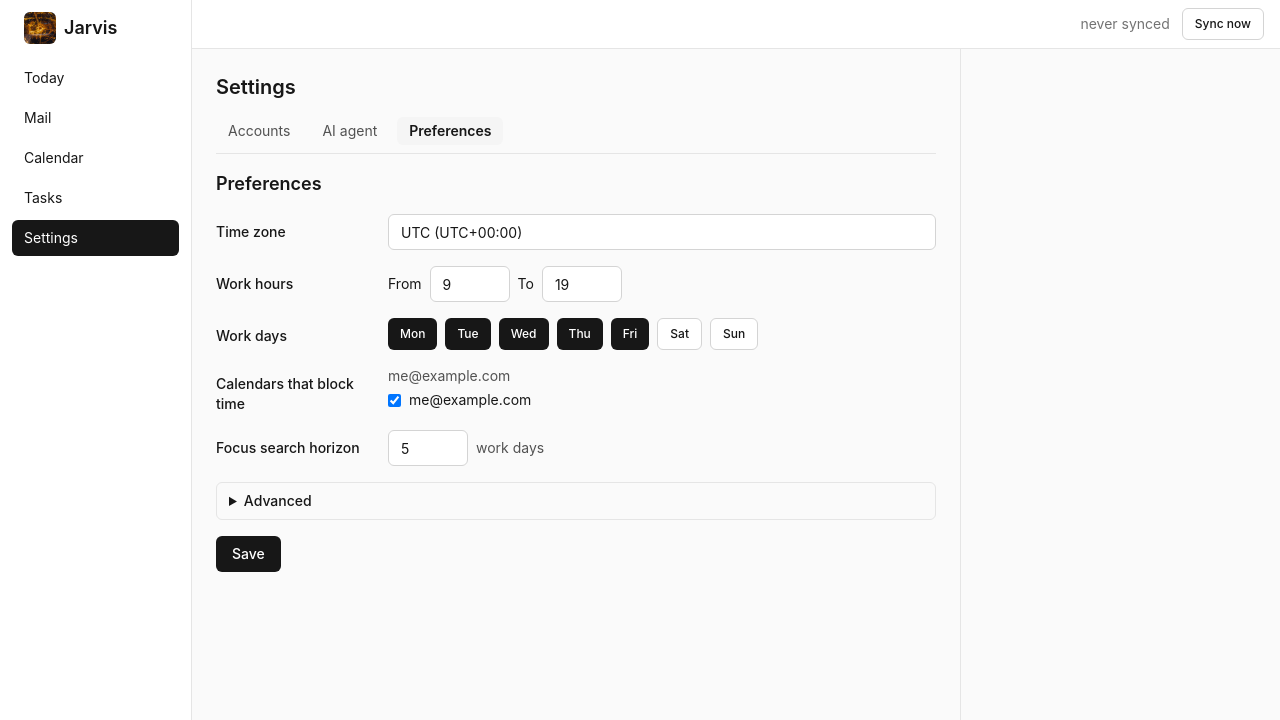
it: settings preferences › shows the API error on failure
Click the button "Save".
click(248, 554)  # box top-left (216, 536), bottom-right (281, 572)
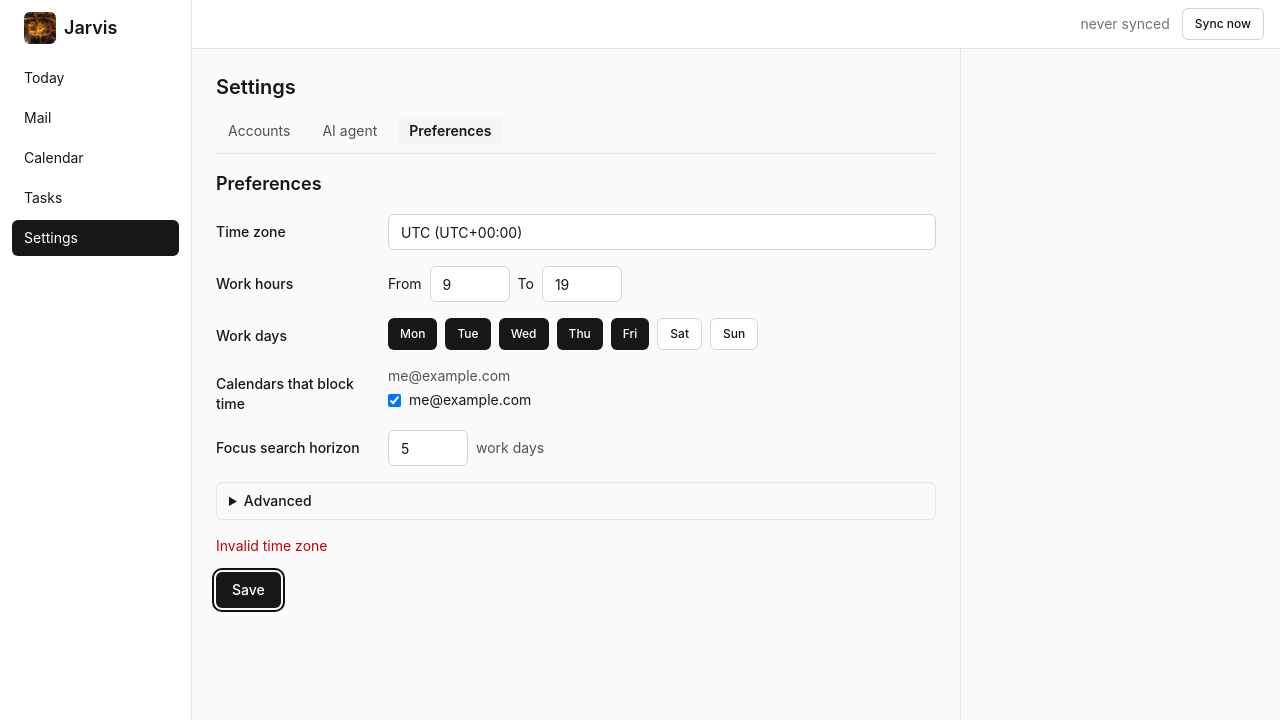
Expected: the message reads "Invalid time zone", top-left (216, 537), bottom-right (328, 554)
